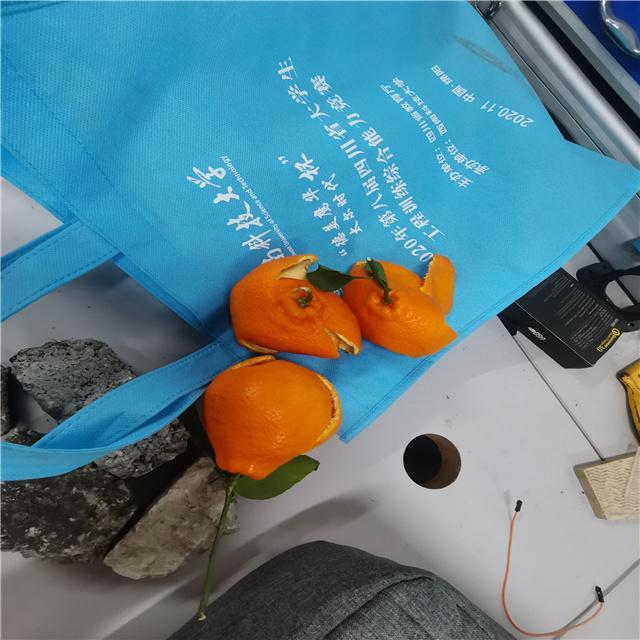orange-peel: (201, 357, 342, 480), (227, 252, 362, 359), (341, 256, 457, 358)
